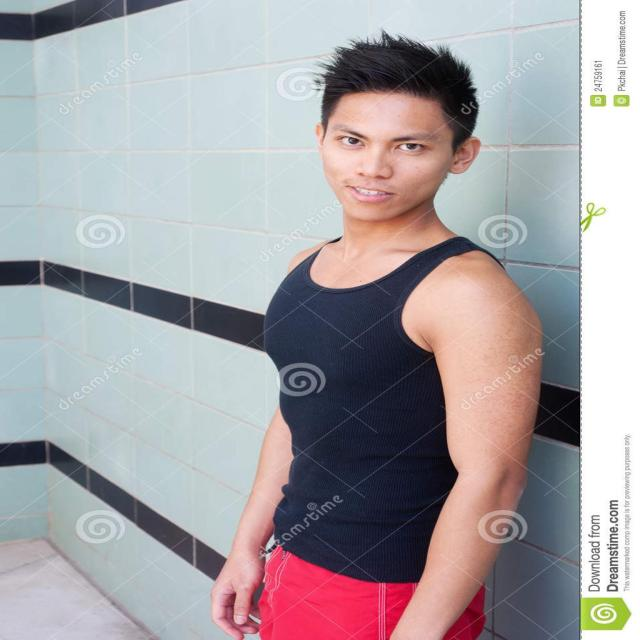Face: (304, 72, 461, 230)
